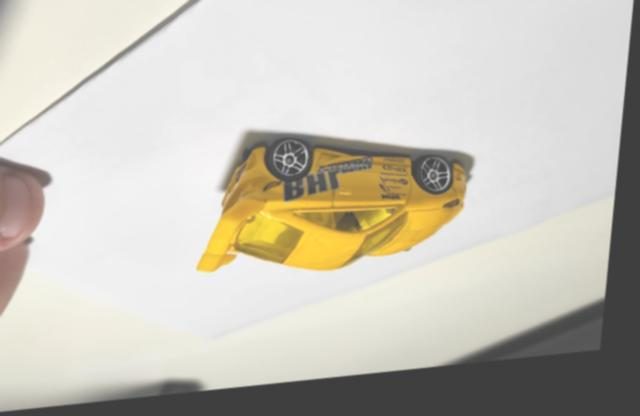07_RHLTURBO: (202, 142, 477, 279)
